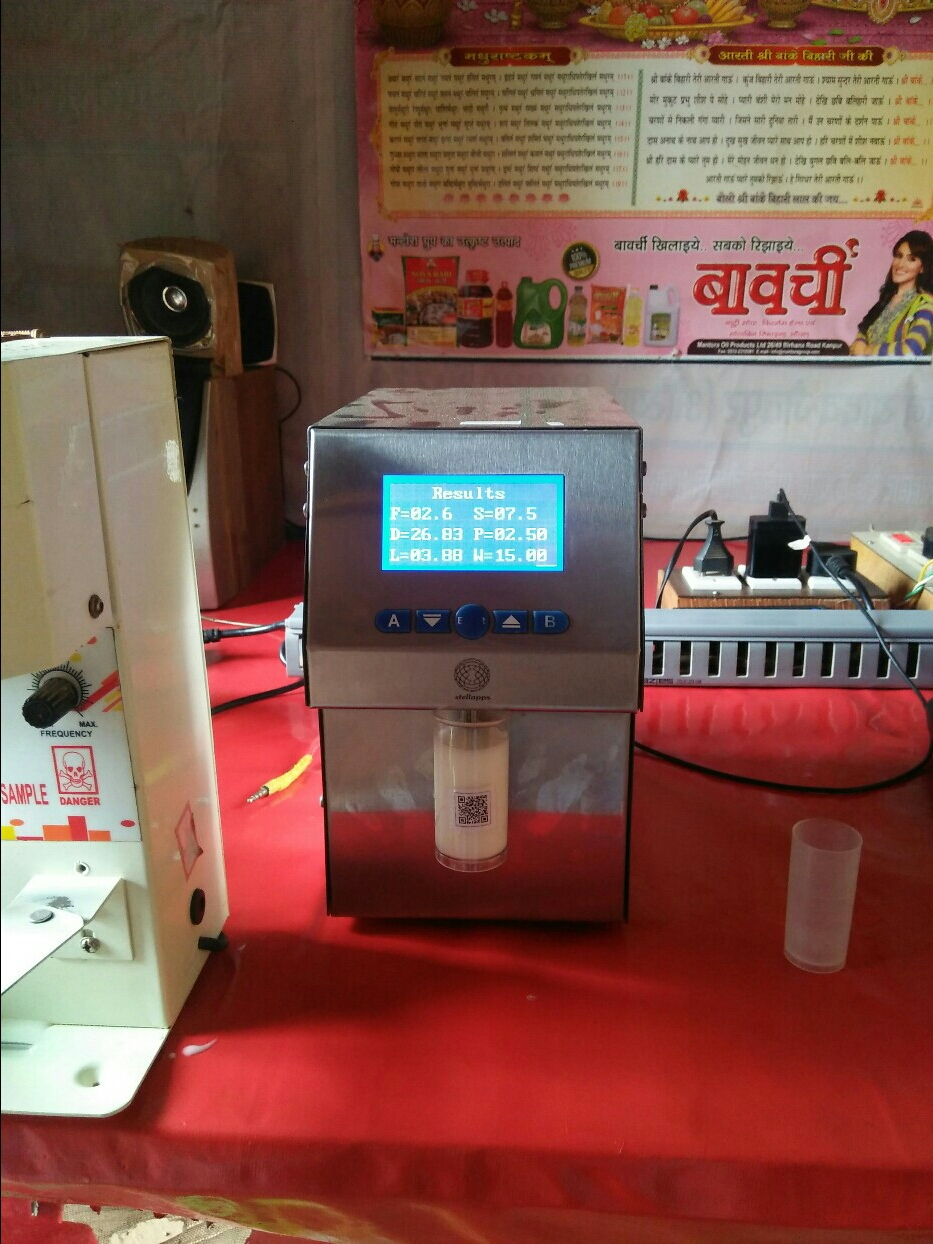lcd: (376, 467, 574, 580)
qr: (450, 789, 495, 829)
